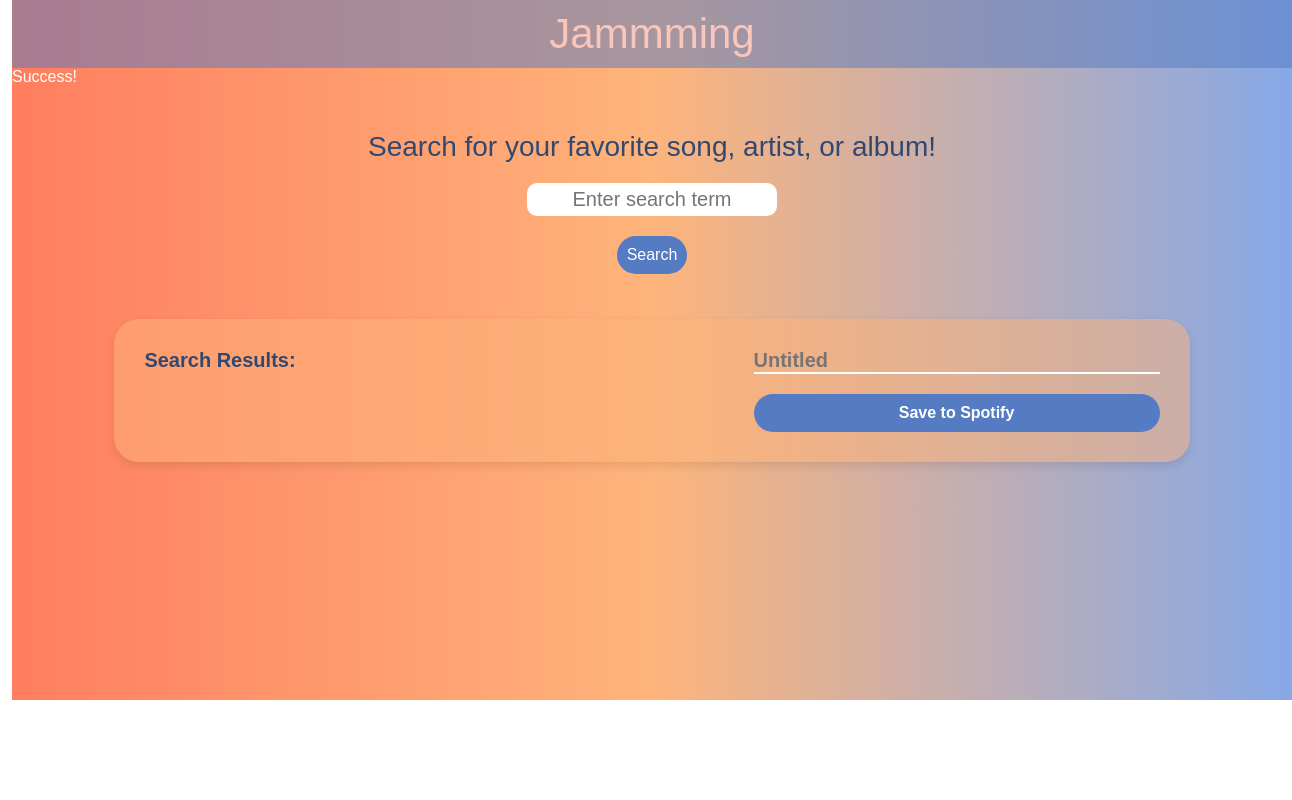
Test: App component › allows adding and removing tracks via + and - buttons
Check: the text "Success!" is shown, box top-left (12, 68), bottom-right (77, 85)
# Enter search term in input
Type "Test Track" into the field with placeholder "Enter search term".
click(652, 200); type("Test Track")  # box top-left (527, 183), bottom-right (777, 216)
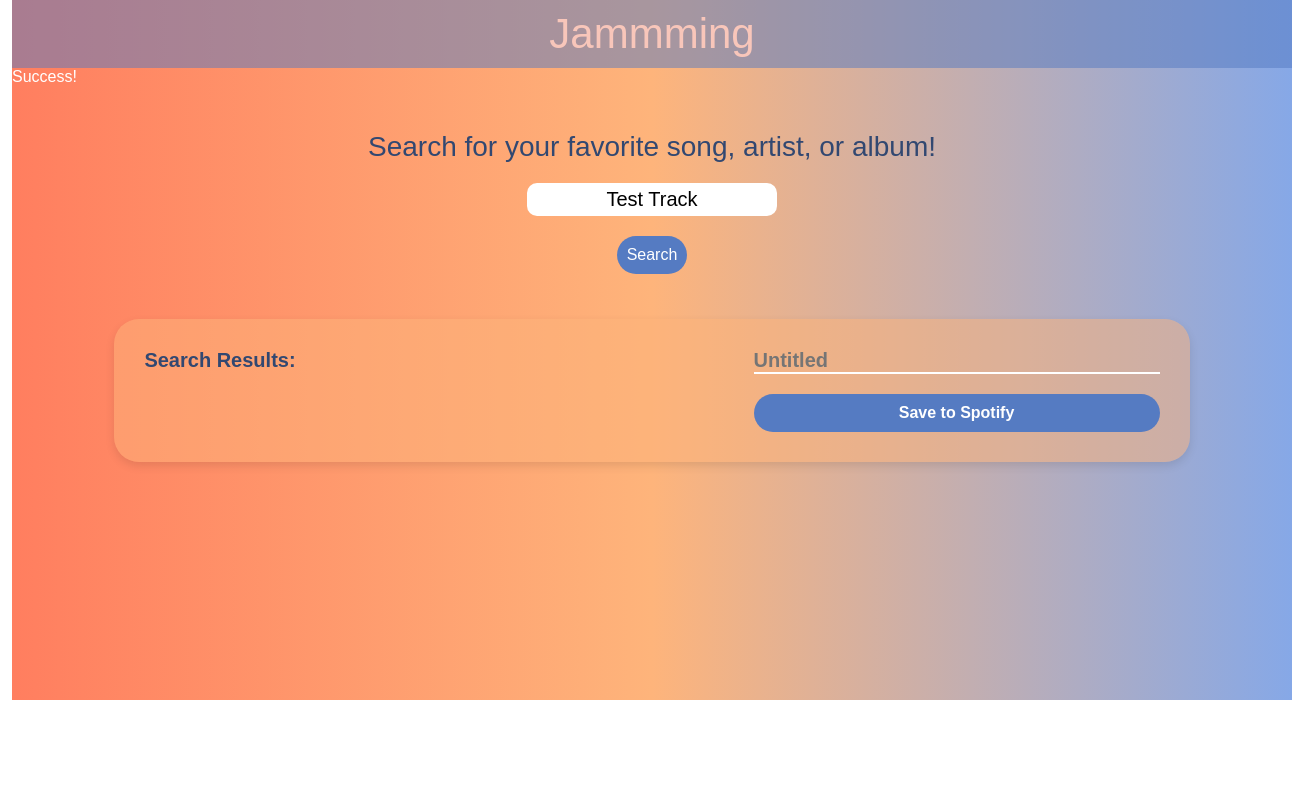
# Click Search button to submit form
Click the button "Search".
click(652, 255)  # box top-left (617, 236), bottom-right (687, 274)
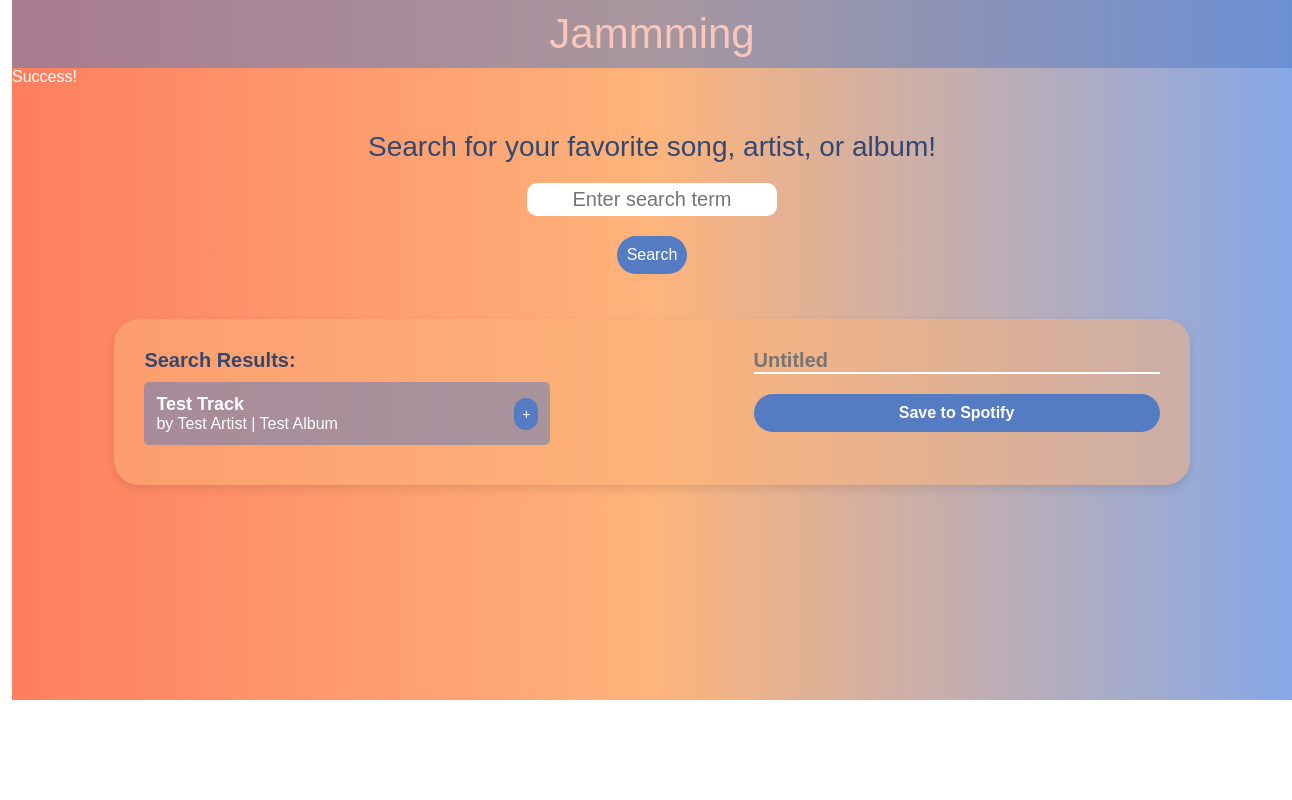
Check: the button "+" is shown
# Click + to add track to playlist
Click the button "+".
click(526, 414)  # box top-left (514, 398), bottom-right (538, 430)
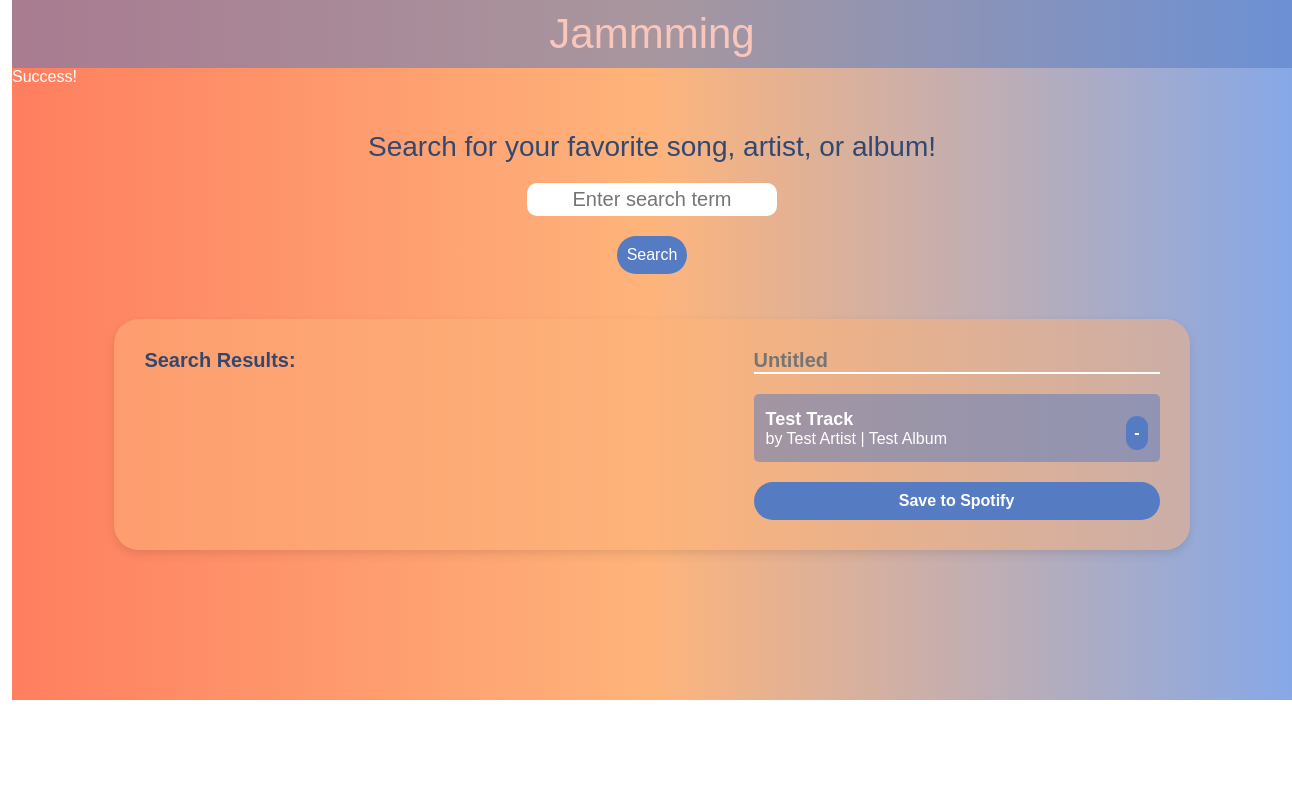
Check: the button "+" is gone
Check: the button "-" is shown
# Click - button to remove track from playlist
Click the button "-".
click(1137, 433)  # box top-left (1126, 416), bottom-right (1148, 450)
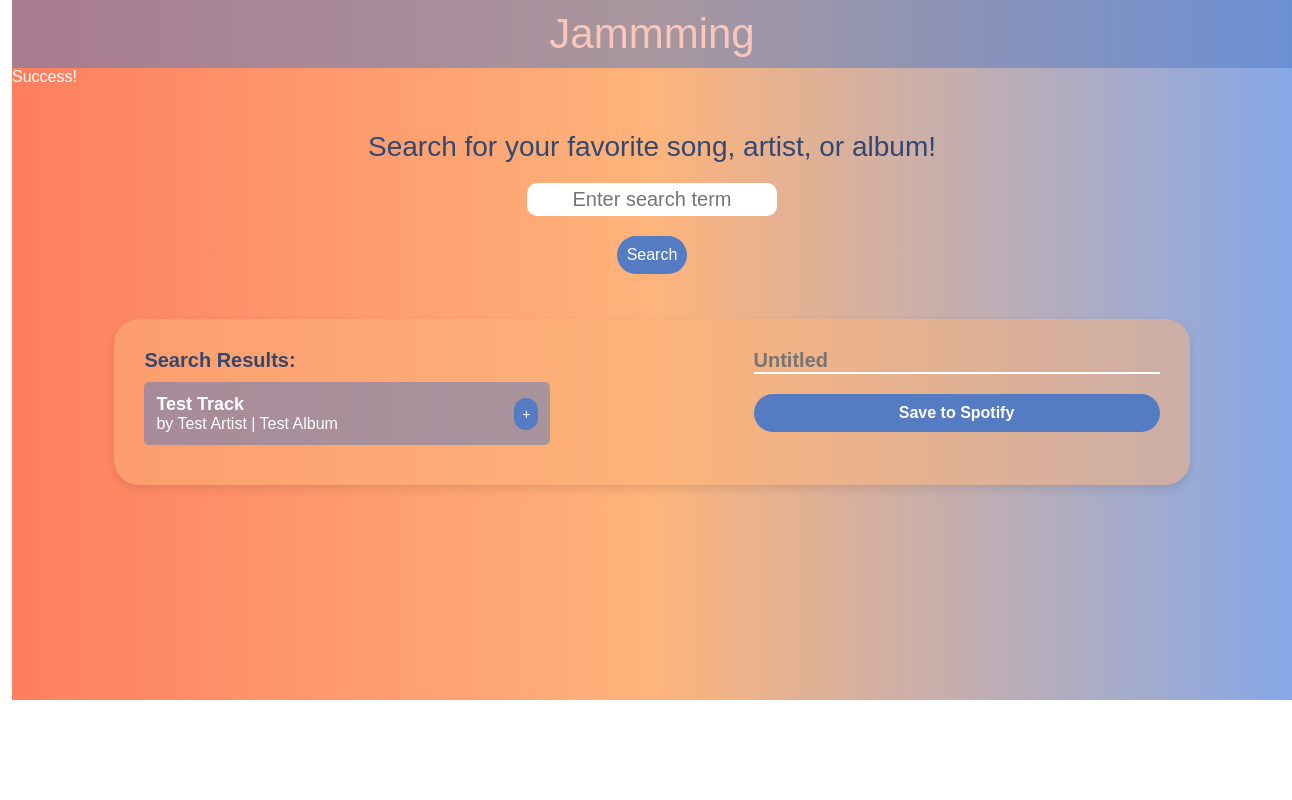
Check: the button "-" is gone
Check: the button "+" is shown, box top-left (514, 398), bottom-right (538, 430)
